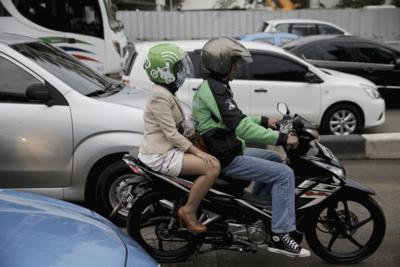With Helmet: (196, 31, 256, 87)
